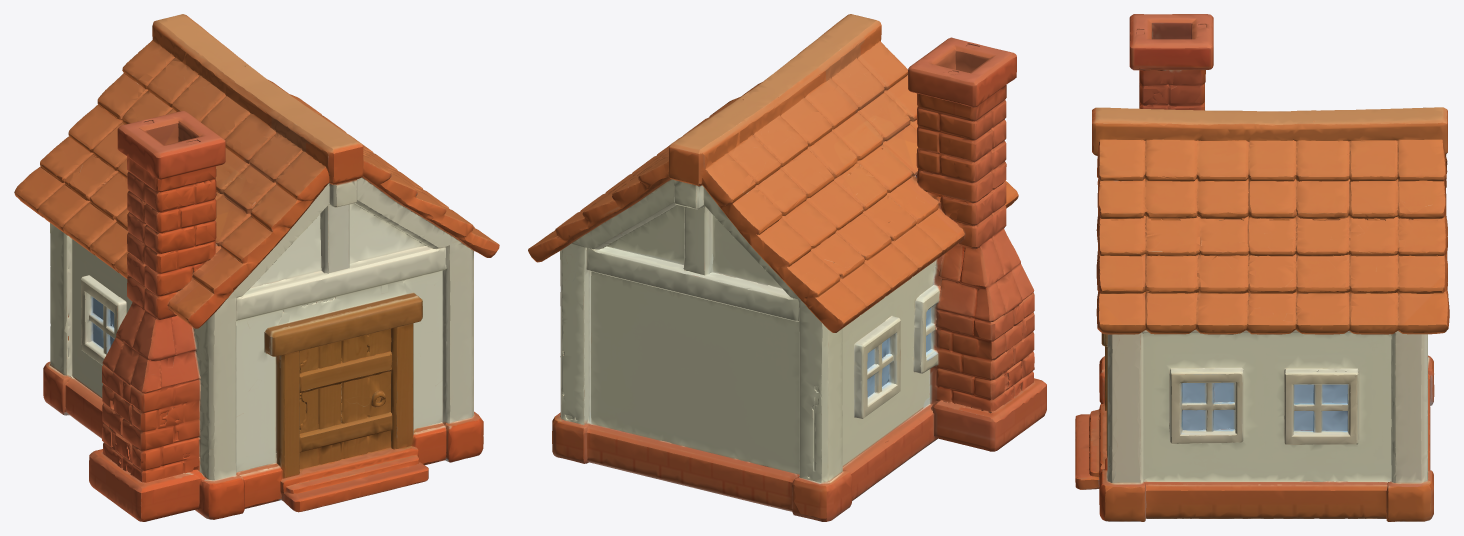
The model's file is factory.glb.
3 views of the same model, side by side, from view 1: azimuth 30°, elevation 25°; view 2: azimuth 150°, elevation 25°; view 3: azimuth 270°, elevation 25° (orthographic). The views are drawn at different scales.
Visible parts, largest first — view 1: geometry_0; view 2: geometry_0; view 3: geometry_0.
Part boxes in pixels (<box>): geometry_0: <box>14,14,499,521</box>; geometry_0: <box>528,14,1046,521</box>; geometry_0: <box>1075,14,1449,521</box>.
Size of the model in its own units: 0.12 by 0.12 by 0.1125.
1 material, 1 textured.
